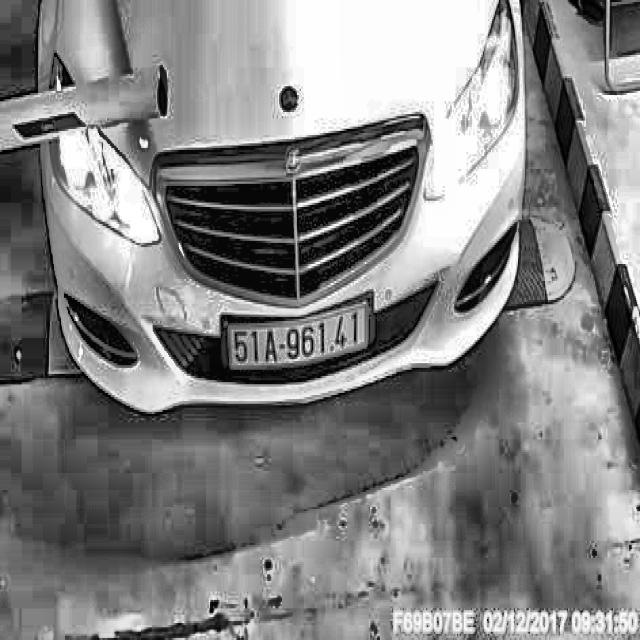plate: (224, 295, 373, 380)
